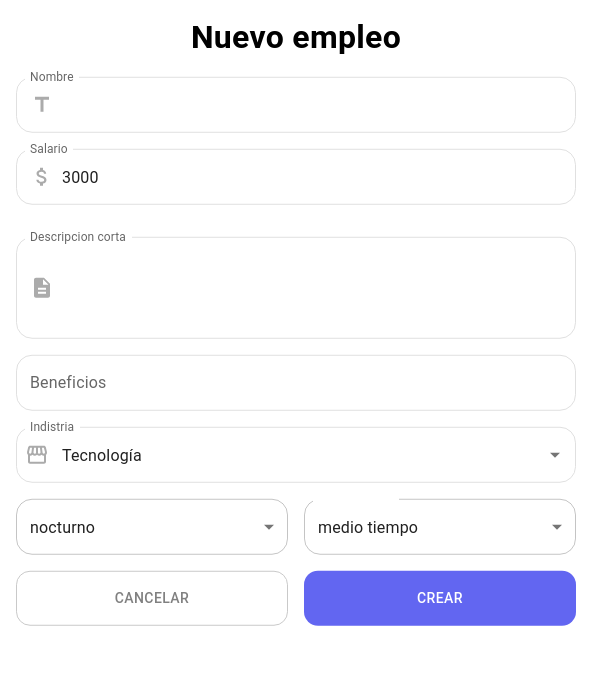
NewJobForm › show errors on trying submits with required fileds empty
The width and height of the screenshot is (593, 682).
Click the button "Crear" at (440, 598), box [304, 571, 576, 625]
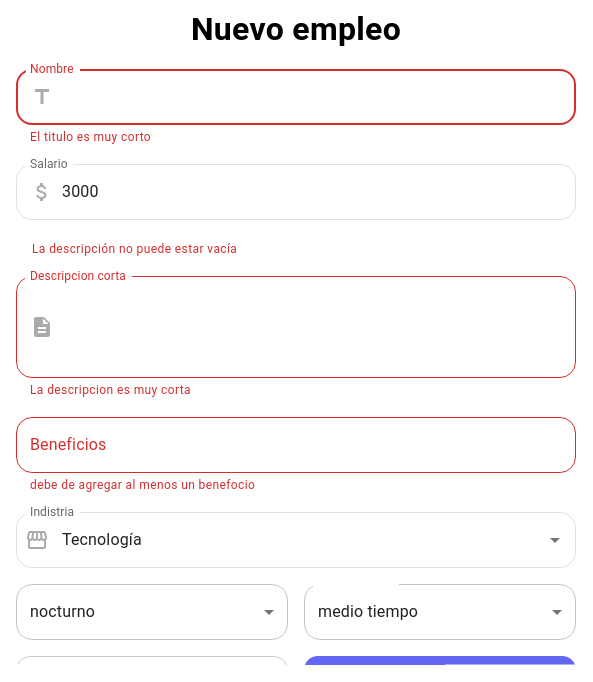
Result: the text "El titulo es muy corto" is shown at [30, 130, 151, 144]
